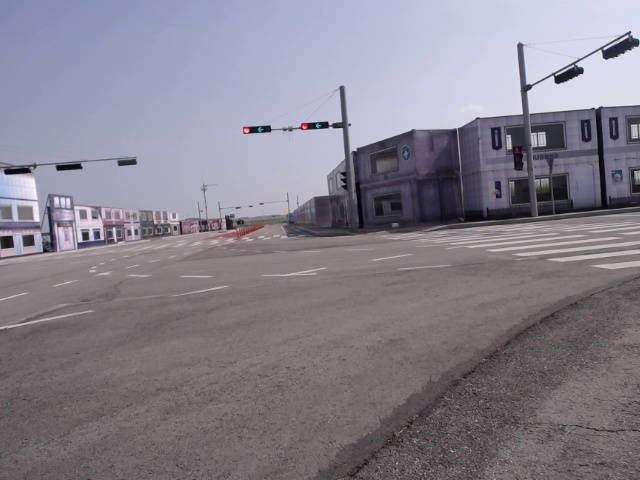left_green_4: (243, 126, 271, 134), (302, 122, 327, 130)
